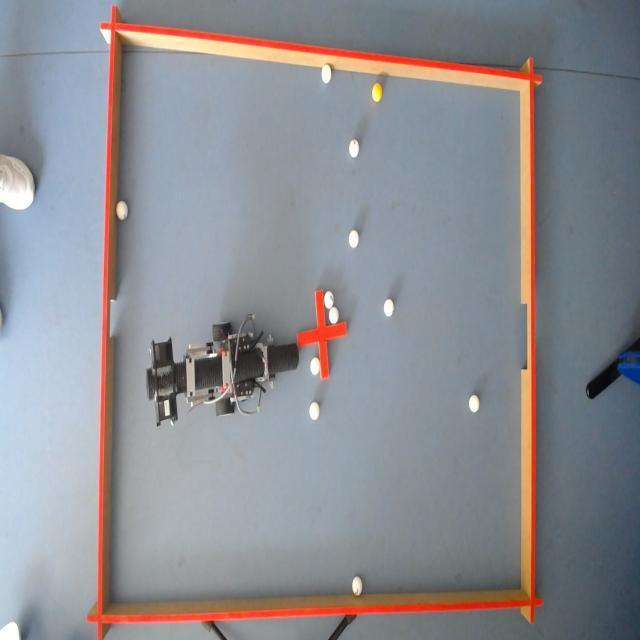orange: (370, 83, 382, 104)
robot: (148, 320, 292, 430)
white: (468, 393, 482, 415), (116, 200, 130, 220), (348, 136, 360, 158), (308, 356, 319, 379), (308, 401, 320, 422), (350, 575, 362, 596), (383, 298, 394, 317), (323, 290, 333, 310), (347, 228, 357, 248), (320, 63, 330, 82)
